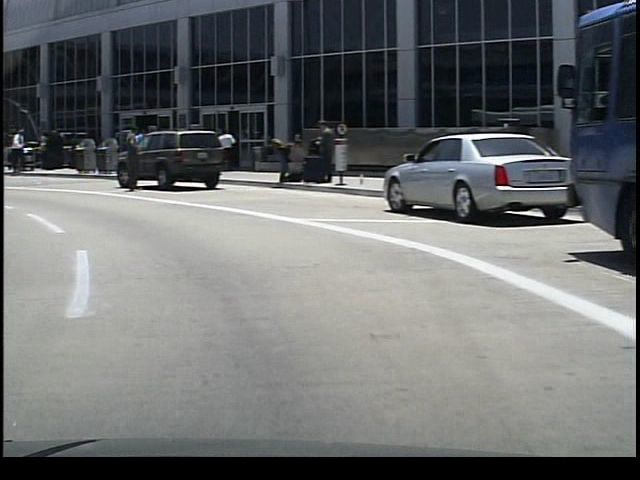person: (113, 116, 142, 199), (268, 129, 298, 183), (309, 119, 330, 187), (211, 125, 234, 173)
